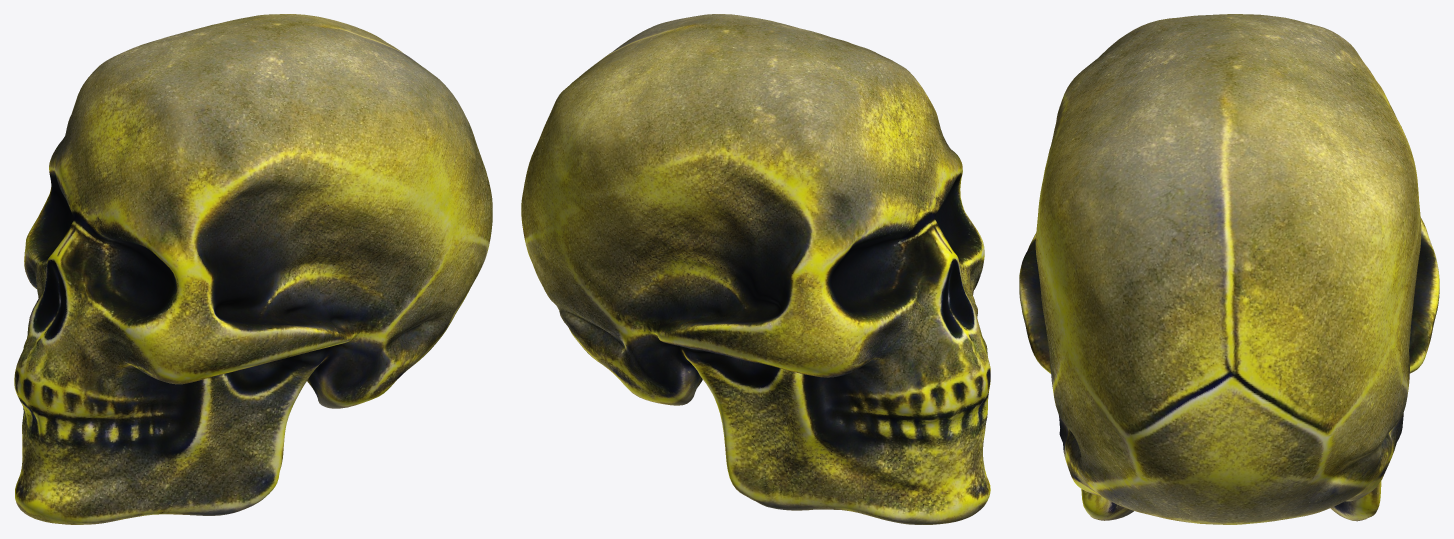
The model's file is Skull.fbx.
3 views of the same model, side by side, from view 1: azimuth 30°, elevation 25°; view 2: azimuth 150°, elevation 25°; view 3: azimuth 270°, elevation 25° (orthographic). The views are drawn at different scales.
Parts seen in each view (by area): view 1: model_0; view 2: model_0; view 3: model_0.
Boxes of the visible parts, x1,y1,x2,y2 form: model_0: [14, 14, 492, 524]; model_0: [521, 14, 990, 524]; model_0: [1019, 14, 1439, 524].
Bounding box in the file's own units: 144 × 133 × 98.23.
